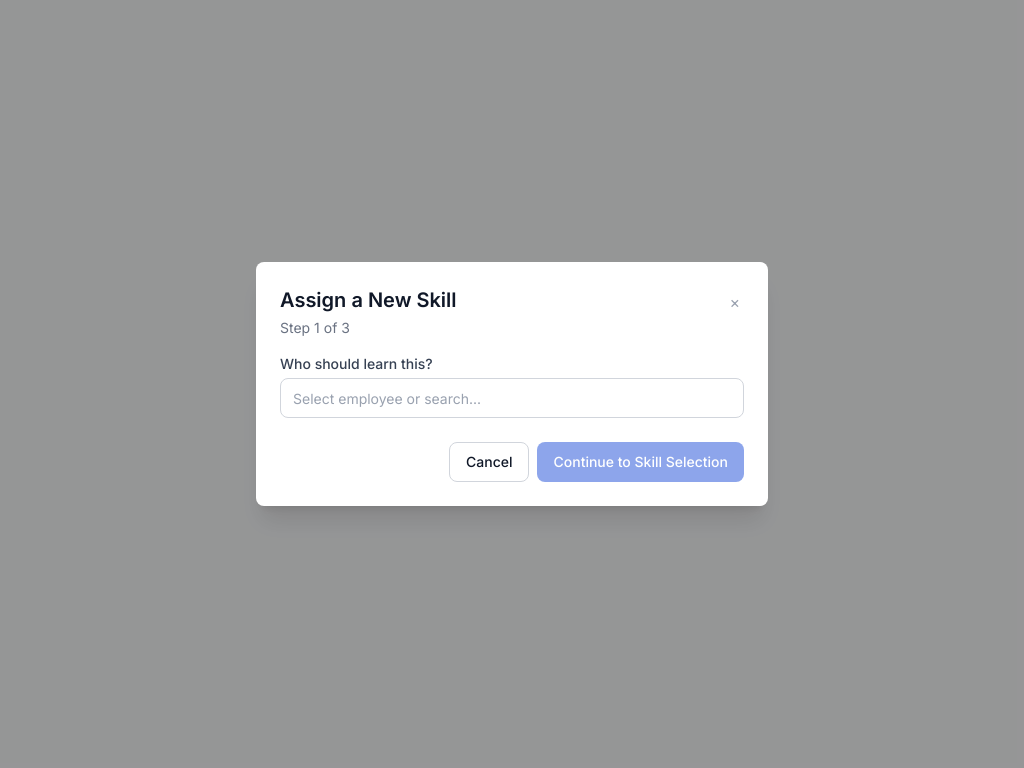
Test case: AssignmentModal › advances to Step 2 and loads skills
Click the dropdown named "Select employee or search" at [512, 398], box [280,378,744,418]
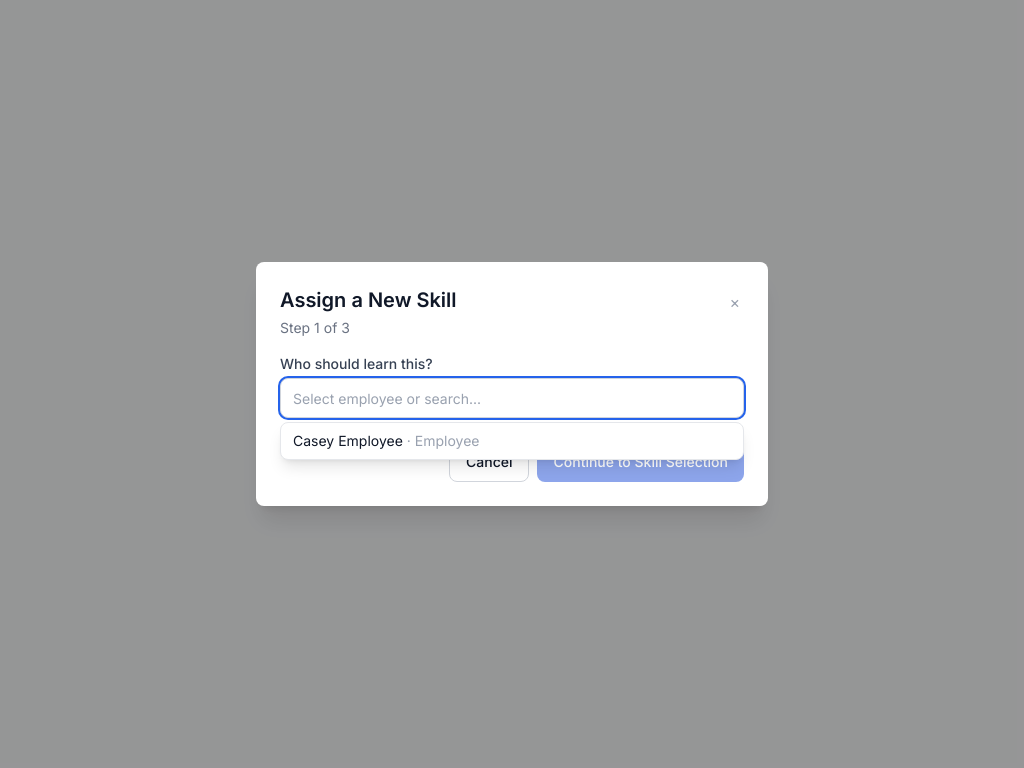
Click the option "Casey Employee· Employee" at [386, 440], box [293,432,480,449]
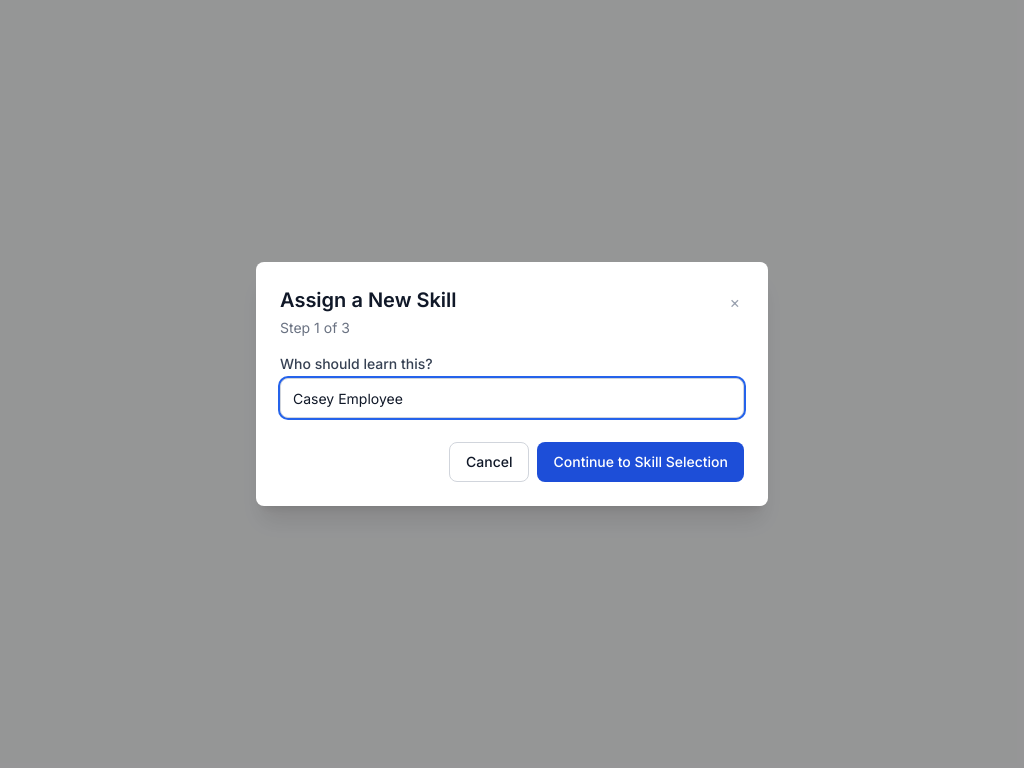
Click the button "Continue to Skill Selection" at [641, 462], box [538,442,744,482]
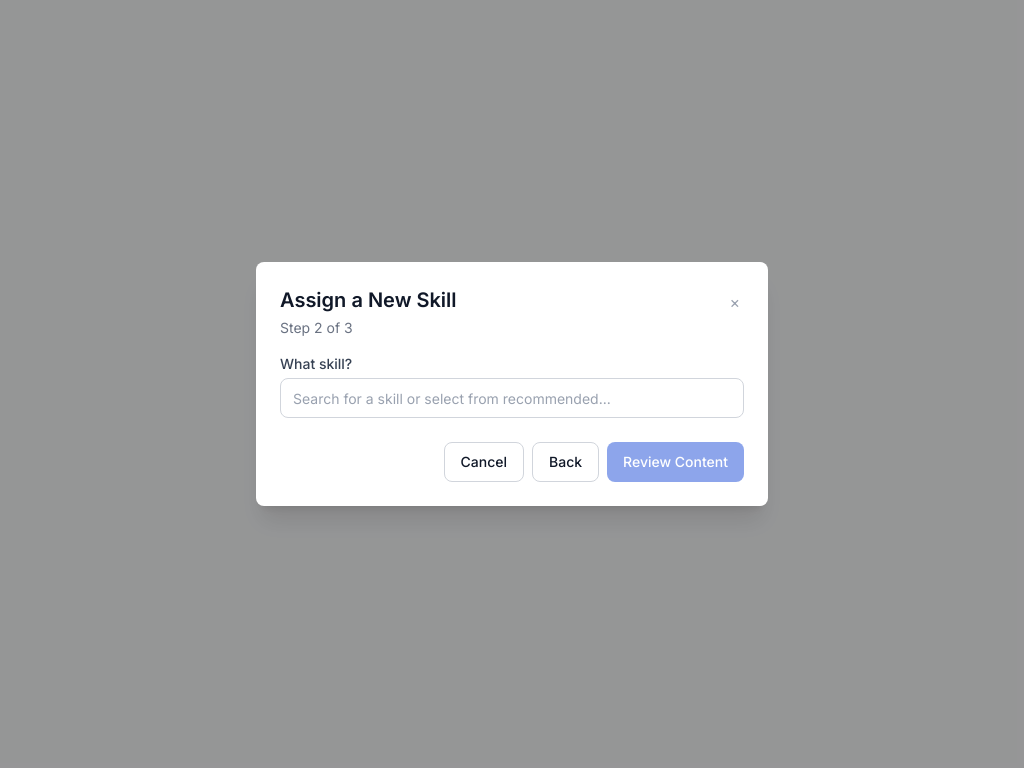
Expected: the text "Step 2 of 3" is shown, [280,319,353,336]
Click the dropdown named "Search for a skill" at [512, 398], box [280,378,744,418]
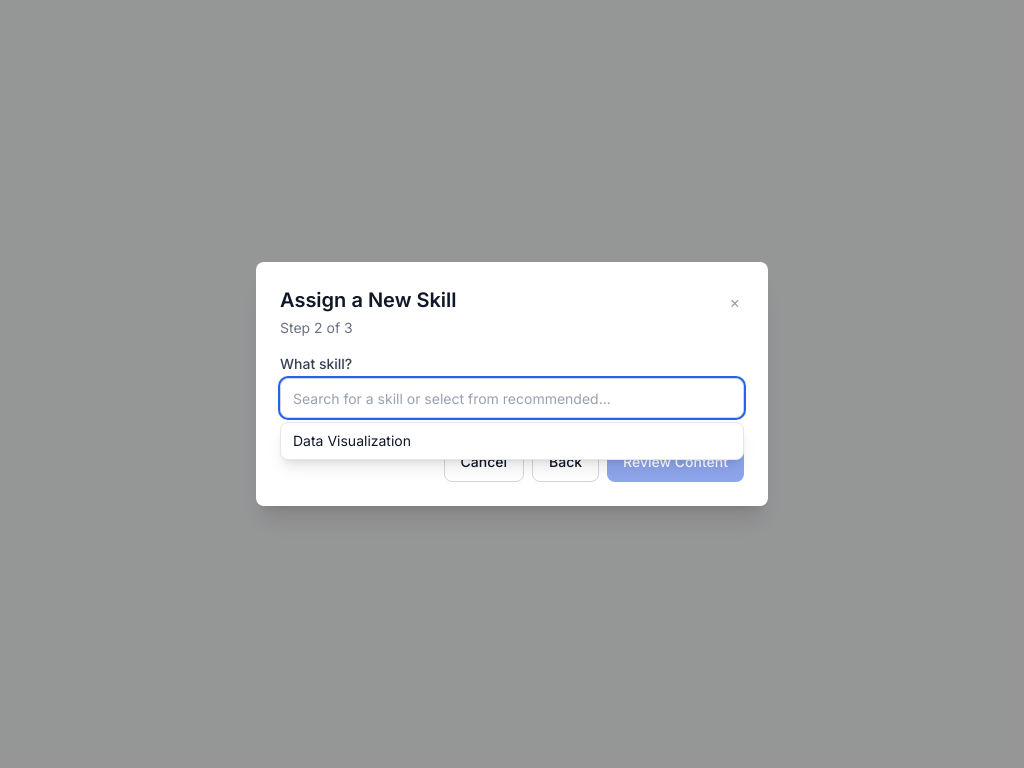
Expected: the option "Data Visualization" is shown, [293,432,411,449]
